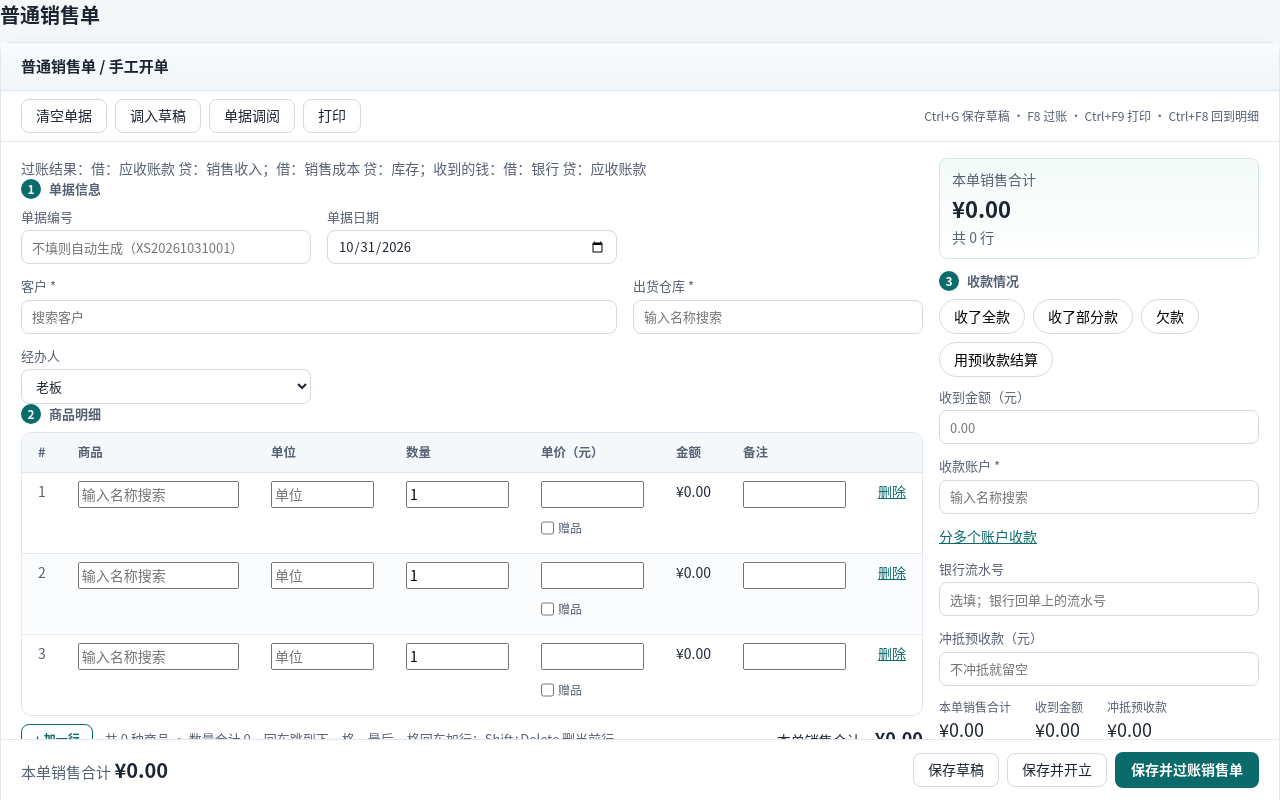
Scenario: 快捷键、调入草稿 › 制单页：调入草稿后进入编辑，保存走更新接口，之后回到空白新单
Click the button "调入草稿" at (158, 116), box [115,98,201,132]
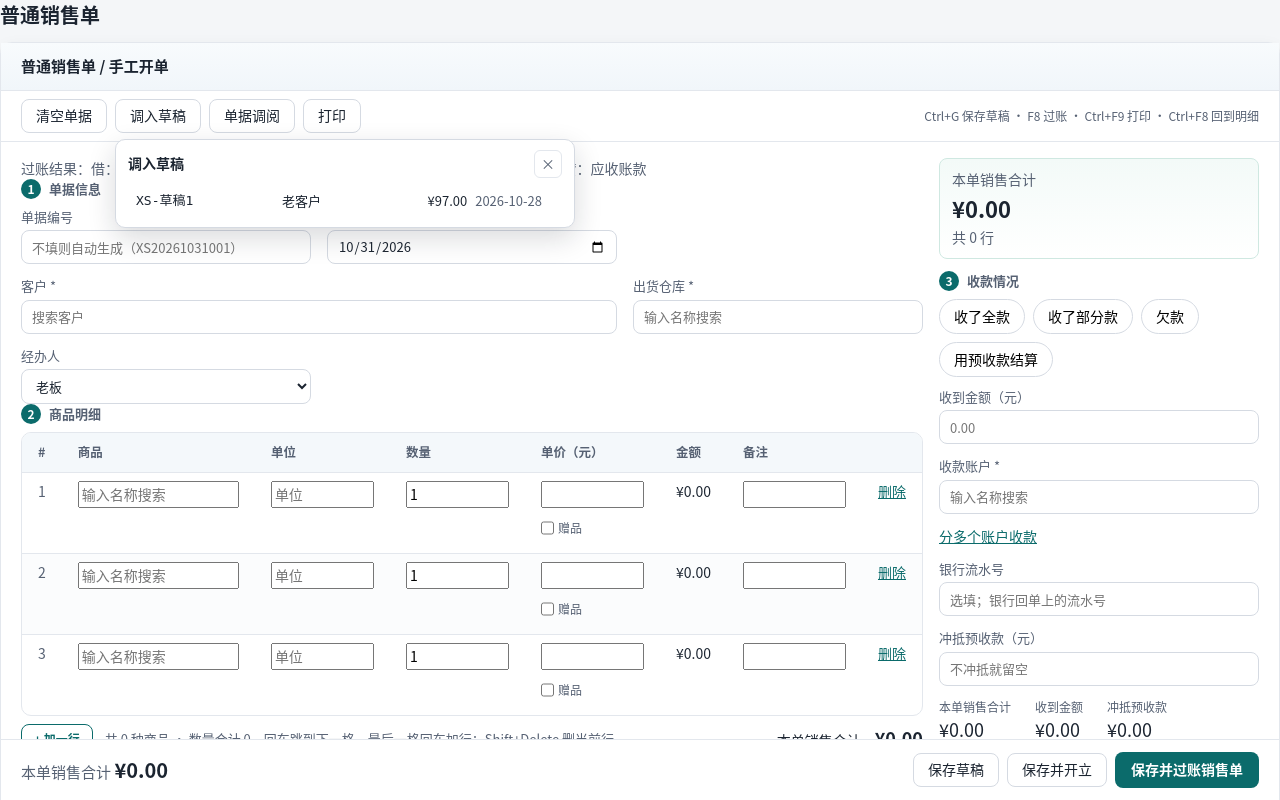
Click the text "XS-草稿1" at (165, 200), box [136,192,193,208]
(page scrolled)
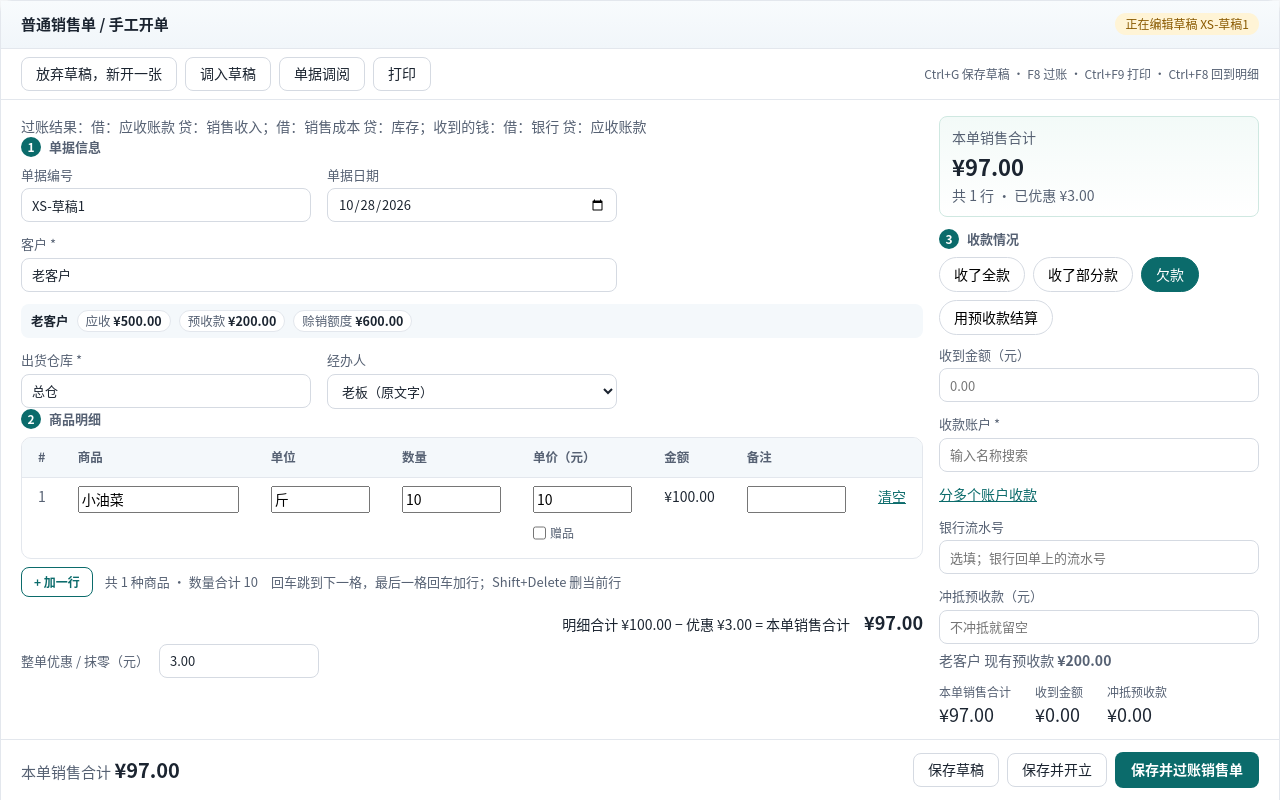
Result: the text "正在编辑草稿 XS-草稿1" is shown at [1115,13,1259,35]
Result: the field named "优惠金额" holds "3.00" at [159,644,319,678]
Result: the element with class "slip-foot-total" shows "¥97.00" at [114,755,180,784]
Click the button "保存草稿" at (956, 770), box [913,753,999,787]
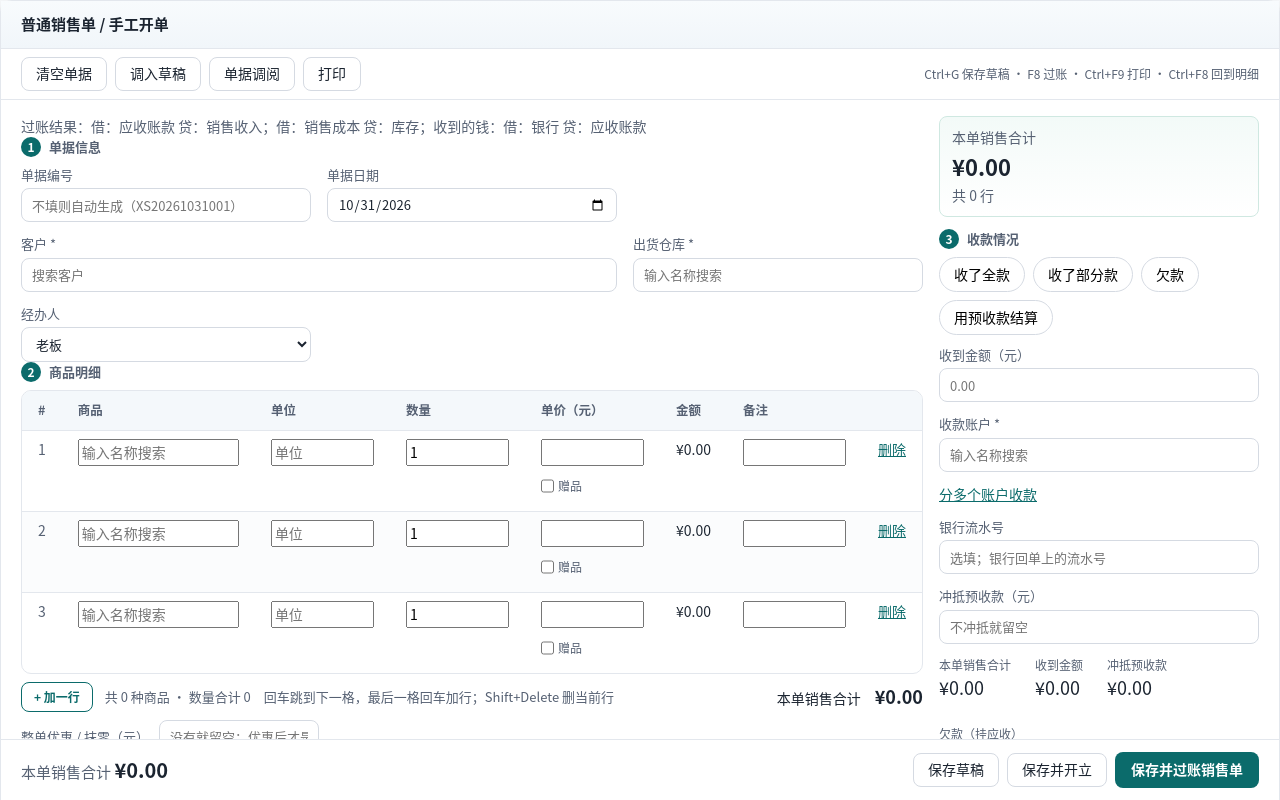
Result: the text "正在编辑草稿" is gone
